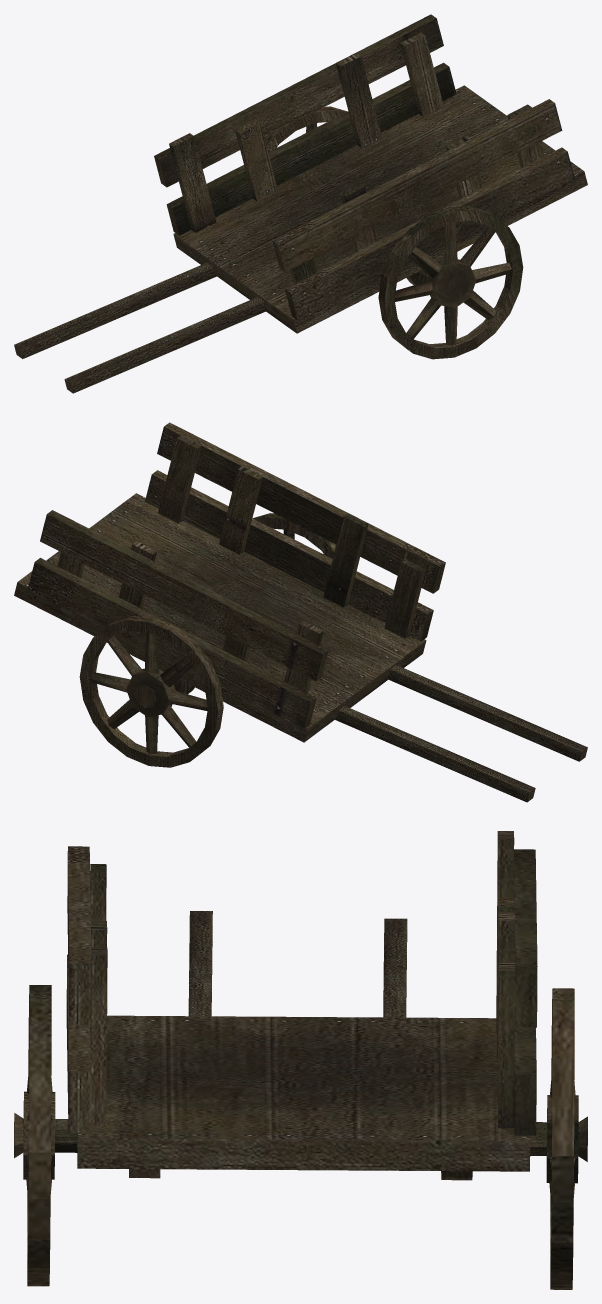
File: STATIC_NW_CITY_CART_01.glb
3 views of the same model, one above another, from view 1: azimuth 30°, elevation 25°; view 2: azimuth 150°, elevation 25°; view 3: azimuth 270°, elevation 25° (orthographic). The views are drawn at different scales.
Parts seen in each view (by area): view 1: STATIC_NW_CITY_CART_01; view 2: STATIC_NW_CITY_CART_01; view 3: STATIC_NW_CITY_CART_01.
Part boxes in pixels (bbox=[...]): STATIC_NW_CITY_CART_01: bbox=[14, 14, 587, 393]; STATIC_NW_CITY_CART_01: bbox=[14, 422, 587, 802]; STATIC_NW_CITY_CART_01: bbox=[14, 831, 587, 1289].
Size of the model in its own units: 2.71 by 1.17 by 1.46.
1 material, 1 textured.
